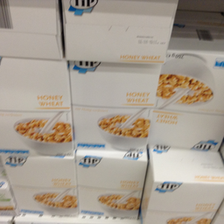cereal: (70, 60, 162, 149), (1, 57, 73, 154), (158, 51, 223, 149), (76, 150, 150, 219), (1, 154, 77, 214)
